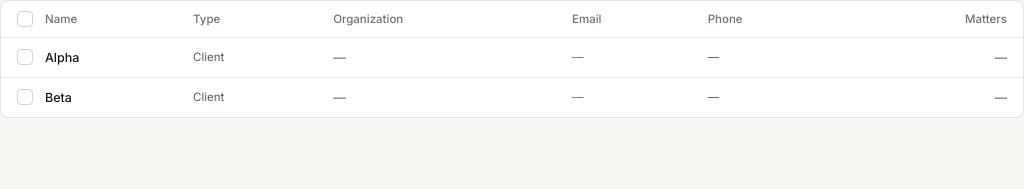
it: ContactsTable — selection › header checkbox selects the whole page and Clear resets
Click the checkbox named "Select all contacts": (25, 19) [17,11,33,27]
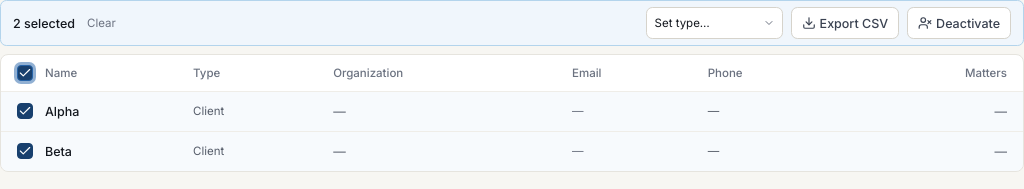
Check: the text "2 selected" is shown, box [13,14,75,32]
Click the button "Clear": (101, 23) [87,15,116,31]
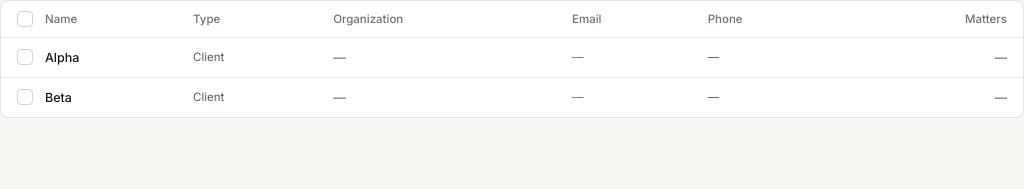
Check: the text "selected" is gone
